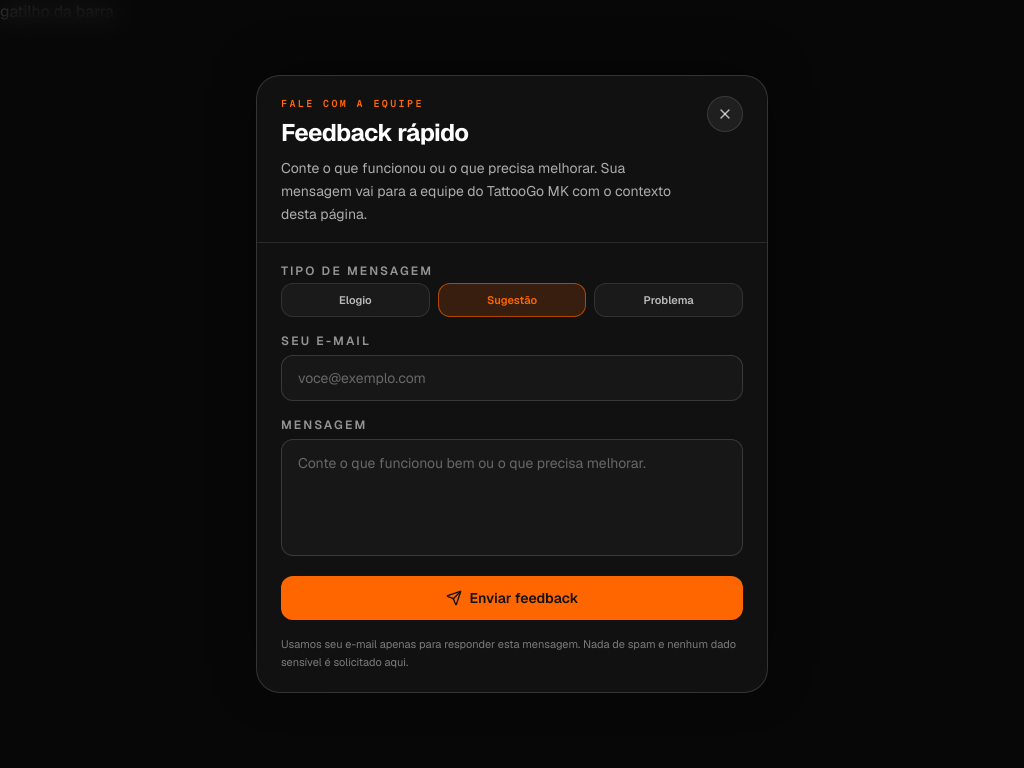
Test: TopBarActionSheet › erro de validação é anunciado sem chamar a API
(page scrolled)
Step 1. Type "invalido" into the field labelled "Seu e-mail" → (512, 378), box [281, 355, 743, 401]
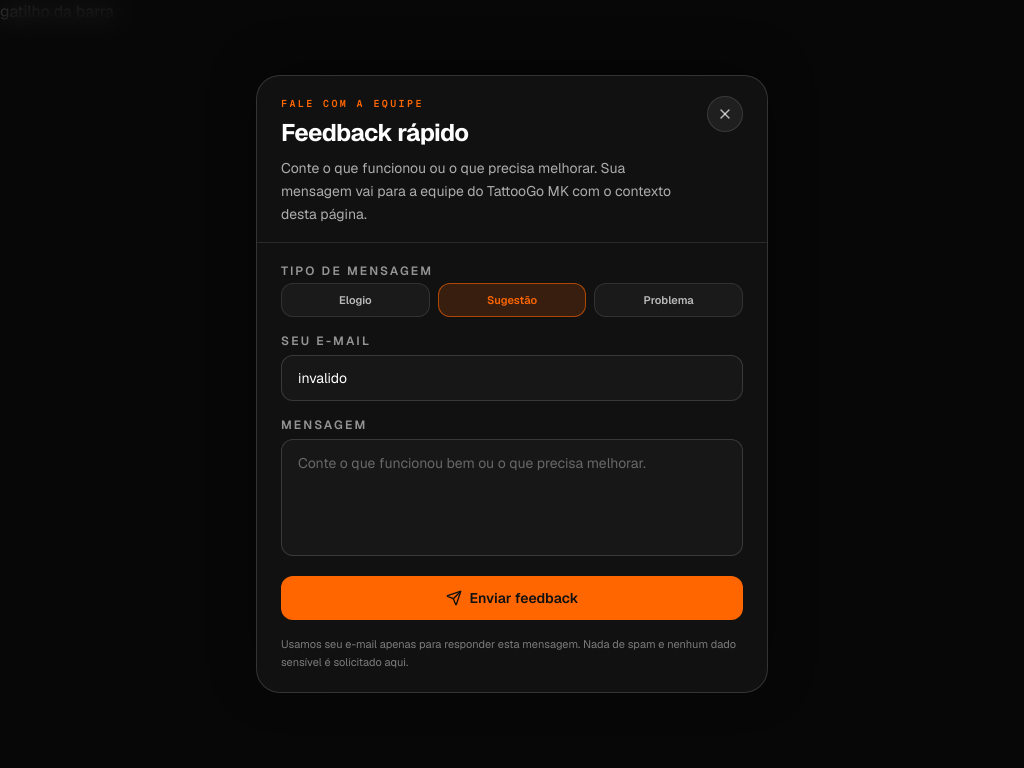
Step 2. Type "curto" into the text box labelled "Mensagem" → (512, 498), box [281, 439, 743, 556]
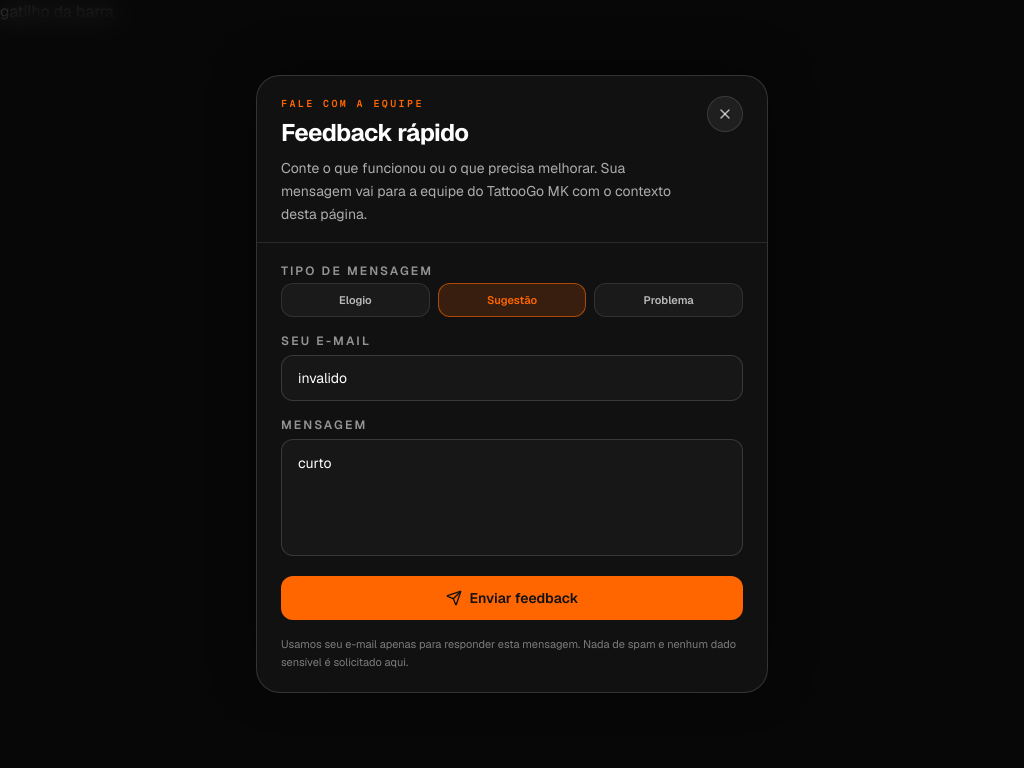
Step 3. Click the button "Enviar feedback" → (512, 598), box [281, 576, 743, 620]
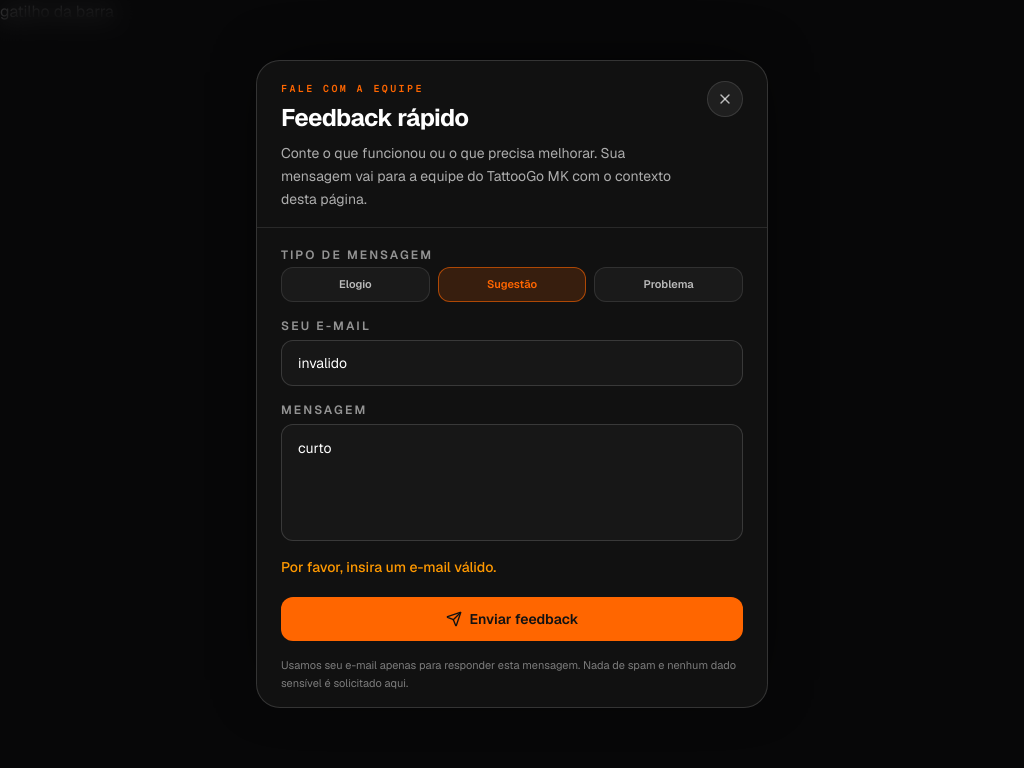
Check: the message shows "e-mail válido", box [281, 558, 496, 576]
